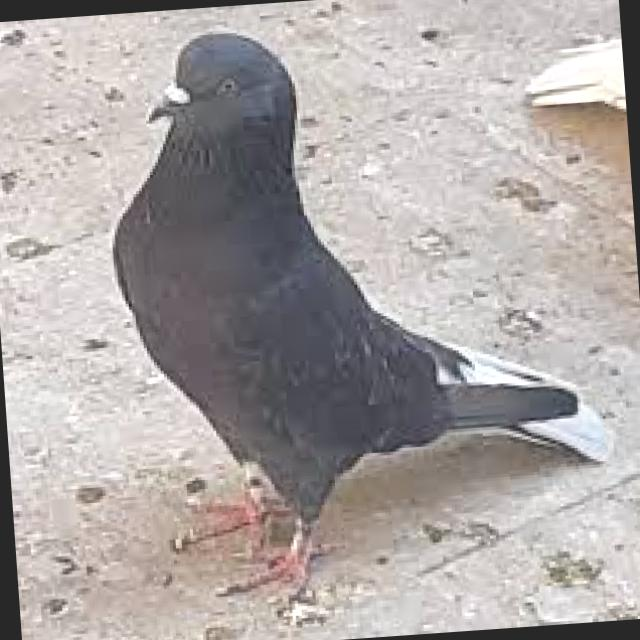bird: (75, 1, 630, 618)
